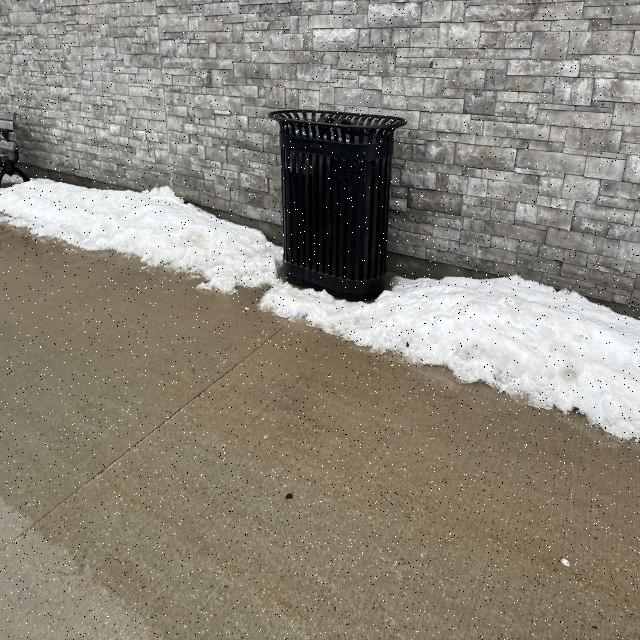Dustbin: (268, 106, 407, 306)
